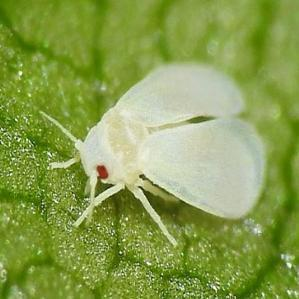Silverleaf whitefly: (29, 44, 275, 269)
